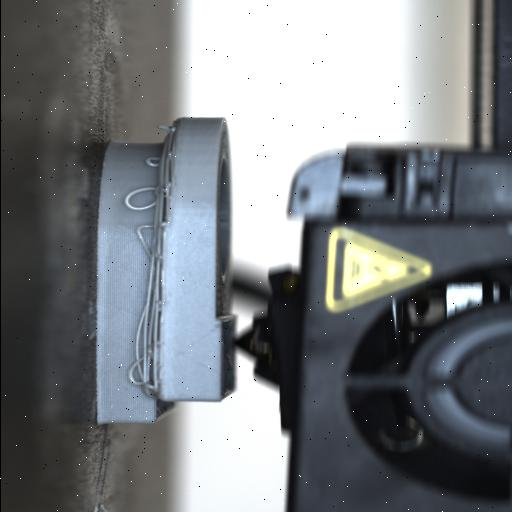layer_shift: (145, 118, 177, 424)
